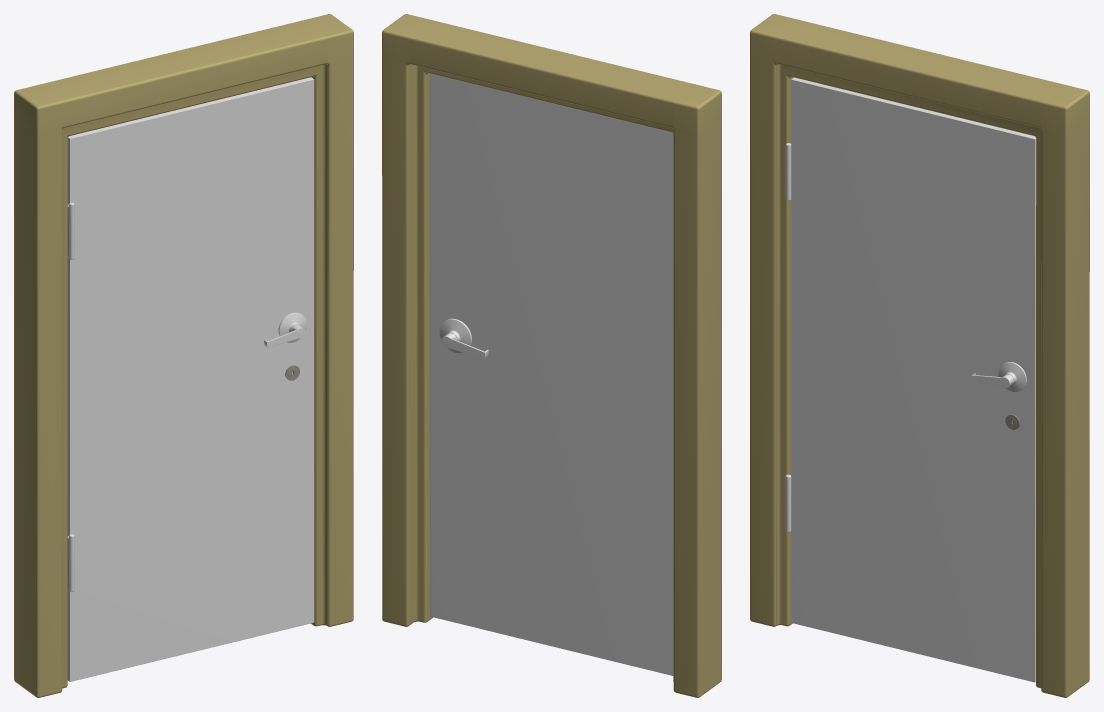
The model's file is MS Utility Door.fbx.
The picture shows the model from 3 angles, left to right: view 1: azimuth 30°, elevation 25°; view 2: azimuth 150°, elevation 25°; view 3: azimuth 330°, elevation 25°; orthographic projection.
Visible parts, largest first — view 1: Door, Door Frame, Hinges; view 2: Door, Door Frame, Handle Base; view 3: Door, Door Frame, Hinges, Handle Base.
Part boxes in pixels (x1,y1,x2,y2): Door: (67, 77, 314, 681); Door Frame: (14, 14, 353, 697); Hinges: (69, 202, 74, 591); Door: (430, 73, 673, 675); Door Frame: (382, 14, 721, 697); Handle Base: (439, 318, 471, 353); Door: (791, 77, 1036, 682); Door Frame: (750, 14, 1089, 697); Hinges: (785, 143, 791, 532); Handle Base: (998, 362, 1026, 392).
Size of the model in its own units: 51.12 by 91 by 7.78.
